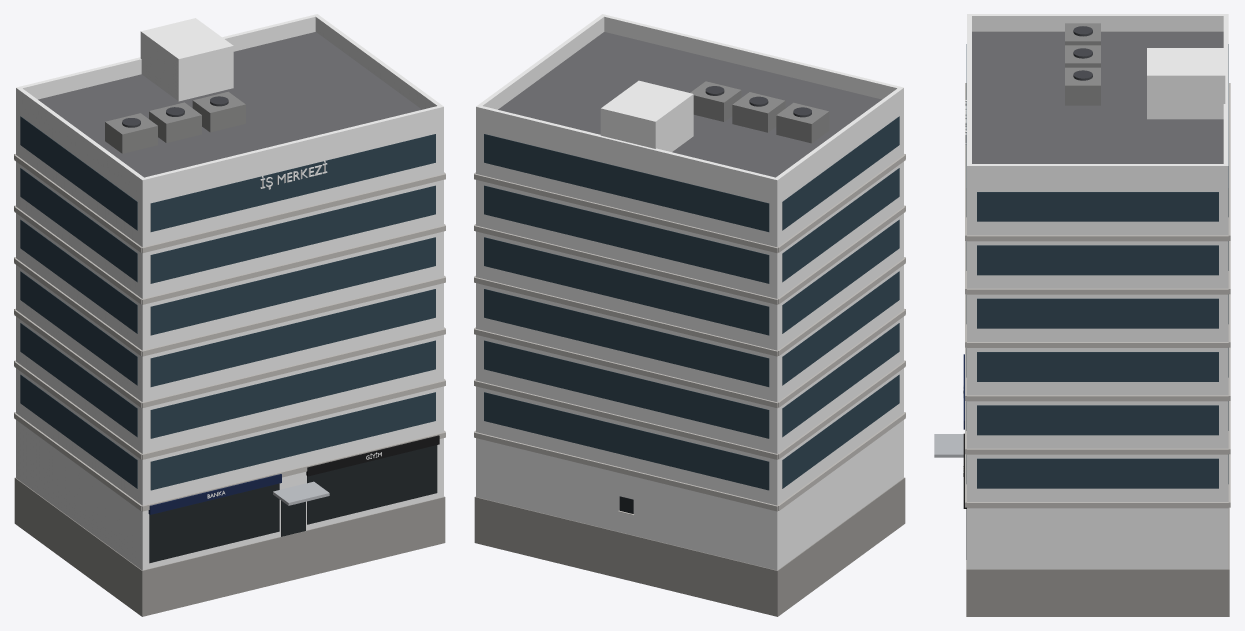
File: bina_14.glb
The picture shows the model from 3 angles, left to right: view 1: azimuth 30°, elevation 25°; view 2: azimuth 150°, elevation 25°; view 3: azimuth 270°, elevation 25°; orthographic projection. The views are drawn at different scales.
Visible parts, largest first — view 1: P14_IsHani_B_L1.001; view 2: P14_IsHani_B_L1.001; view 3: P14_IsHani_B_L1.001.
Boxes of the visible parts, x1,y1,x2,y2 form: P14_IsHani_B_L1.001: (14,14,445,616); P14_IsHani_B_L1.001: (474,14,905,616); P14_IsHani_B_L1.001: (934,14,1230,616).
Bounding box in the file's own units: 22.24 × 32.3 × 18.12.
